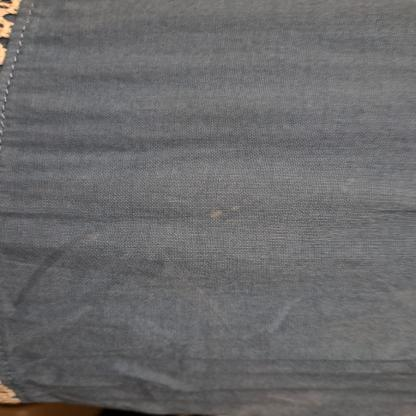spot: (207, 202, 248, 222)
